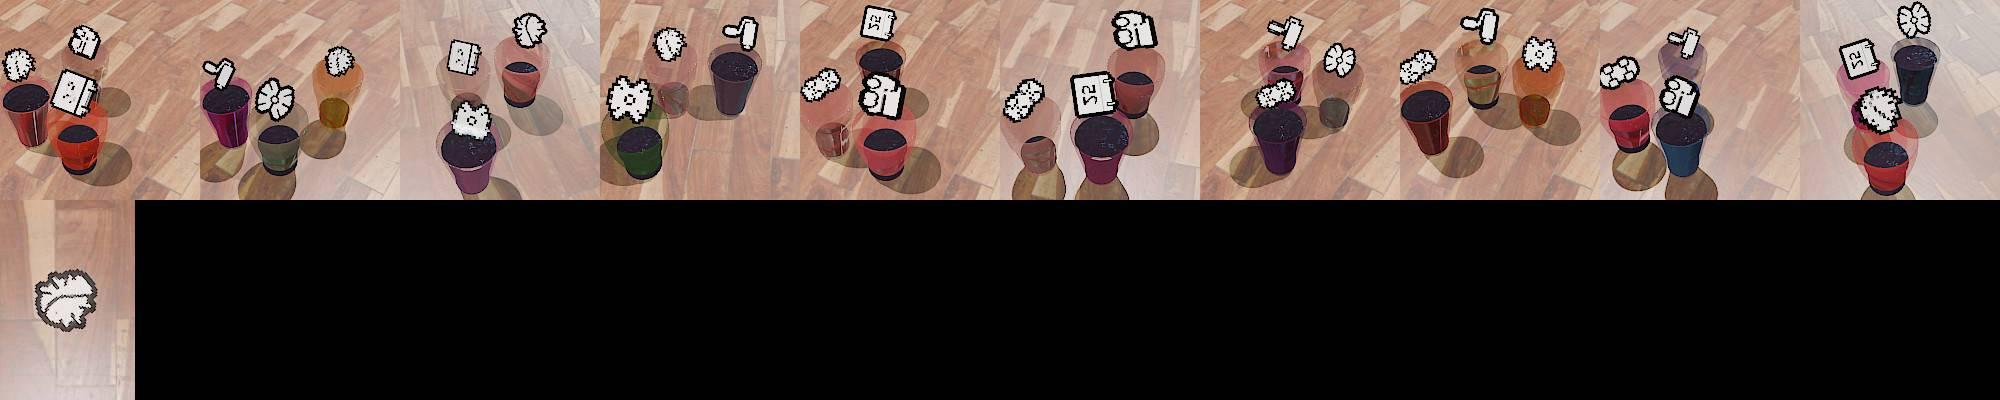icon: (33, 268, 98, 332), (605, 74, 654, 124), (51, 69, 99, 118), (1070, 70, 1120, 118), (1853, 85, 1903, 134), (858, 73, 906, 120), (1111, 10, 1157, 52), (254, 76, 296, 122), (1003, 76, 1045, 122), (1658, 74, 1702, 117), (450, 98, 492, 140), (1839, 38, 1880, 82), (800, 66, 842, 103), (1462, 6, 1500, 46), (1399, 48, 1437, 87), (1599, 55, 1642, 89), (1520, 36, 1557, 73), (1268, 15, 1304, 54), (860, 5, 898, 41), (446, 39, 482, 78), (1256, 76, 1298, 108), (722, 15, 759, 51), (511, 13, 547, 48), (1895, 3, 1930, 39), (1321, 42, 1356, 79), (3, 47, 37, 83), (202, 57, 236, 93), (652, 27, 686, 62), (70, 24, 102, 61), (1667, 27, 1702, 60), (324, 46, 355, 76)
